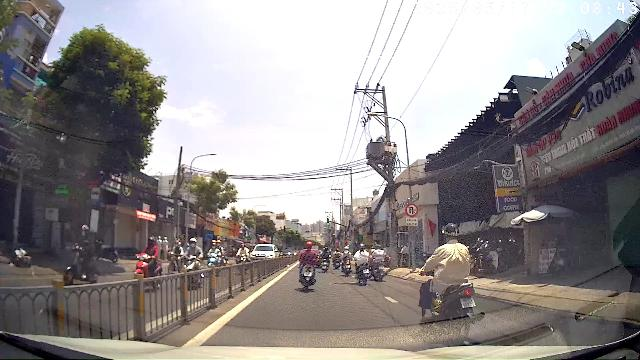124b-cam-oto-quay-dau-xe: (405, 203, 419, 217)
